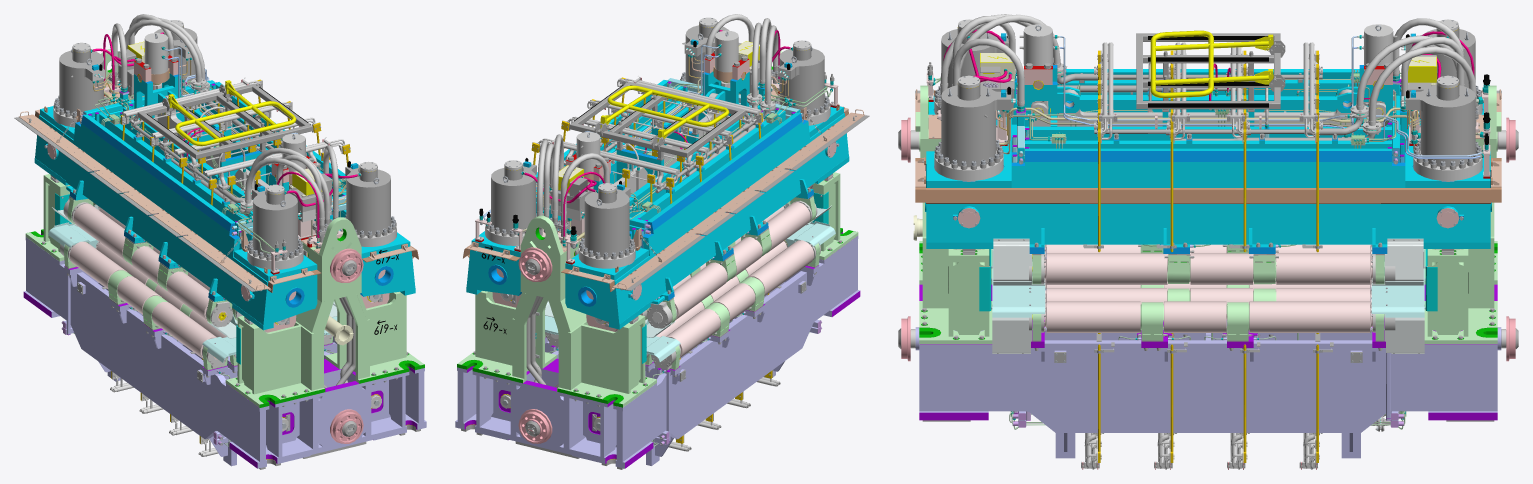
3 renders of one model, left to right at view 1: azimuth 30°, elevation 25°; view 2: azimuth 150°, elevation 25°; view 3: azimuth 270°, elevation 25°, orthographic. The views are drawn at different scales.
Visible parts, largest first — view 1: Model; view 2: Model; view 3: Model.
Part boxes in pixels (x1,y1,x2,y2): Model: (14, 14, 426, 469); Model: (455, 14, 869, 469); Model: (898, 14, 1518, 469).
Size of what is drawn, in the model's own units: 2.32 by 3.81 by 5.37.
